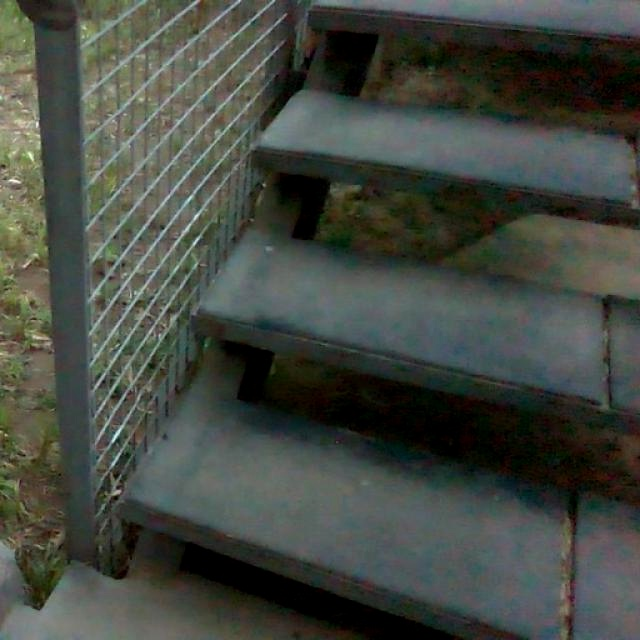stair: (180, 0, 640, 568)
